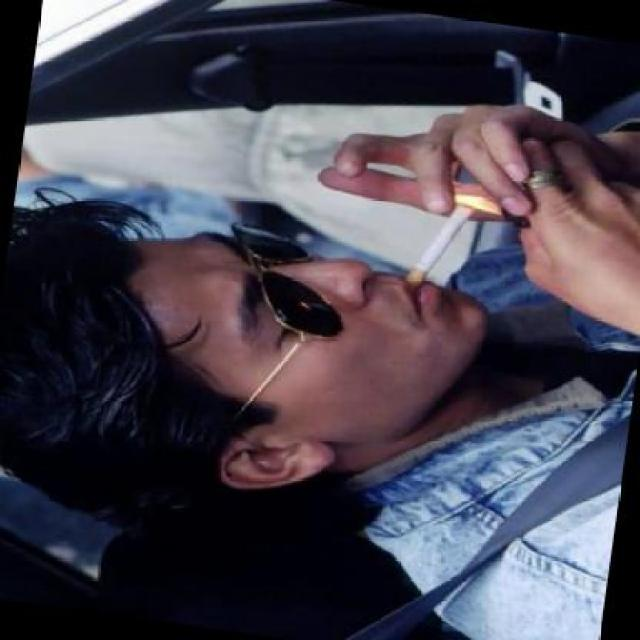cigarette: (400, 193, 477, 296)
